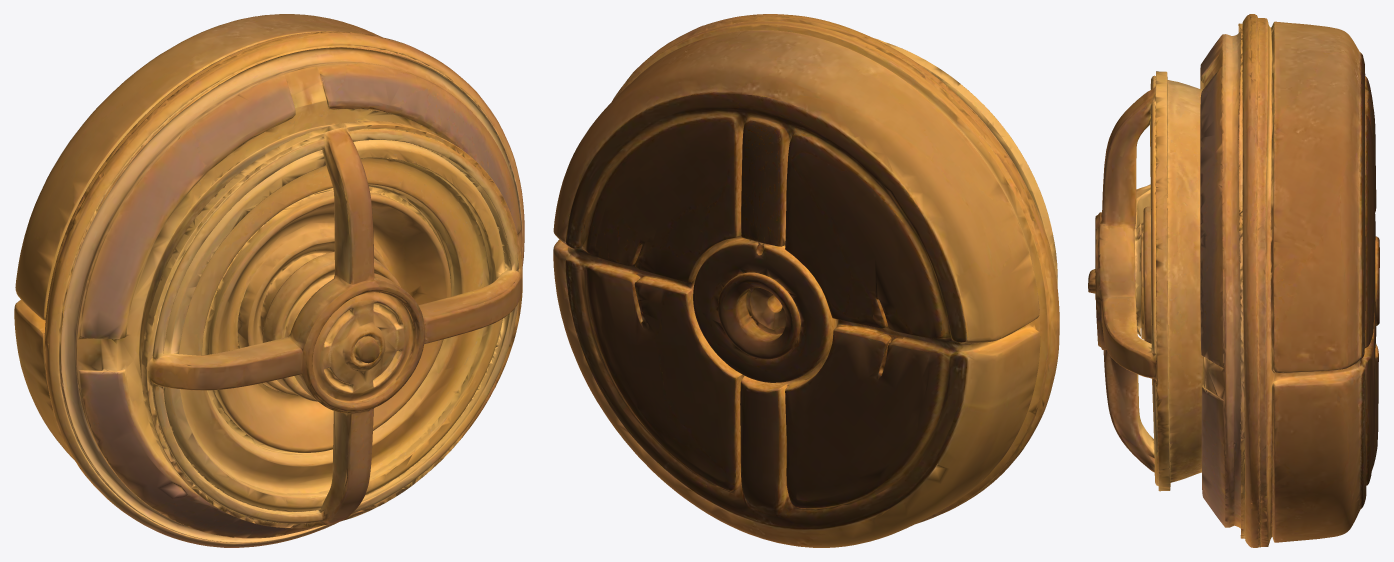
File: button-play-yellow.glb
The picture shows the model from 3 angles, left to right: view 1: azimuth 30°, elevation 25°; view 2: azimuth 150°, elevation 25°; view 3: azimuth 270°, elevation 25°; orthographic projection. The views are drawn at different scales.
Size of the model in its own units: 1.15 by 1.16 by 0.6301.
Materials: 1 (1 with a texture image).
